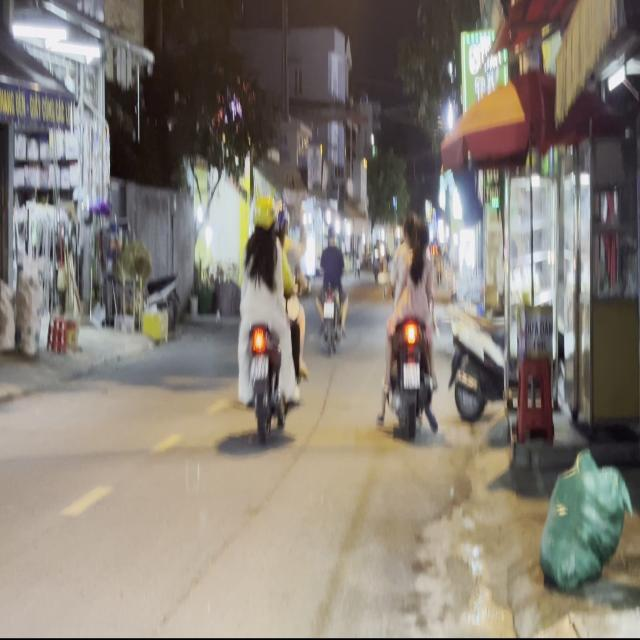helmet: (252, 194, 274, 232), (273, 203, 288, 236)
licenseplate: (232, 190, 306, 442), (376, 204, 441, 442)
motorcyclist: (401, 208, 421, 247), (414, 217, 429, 256)
nohelmet: (403, 364, 420, 389), (250, 355, 267, 378)
